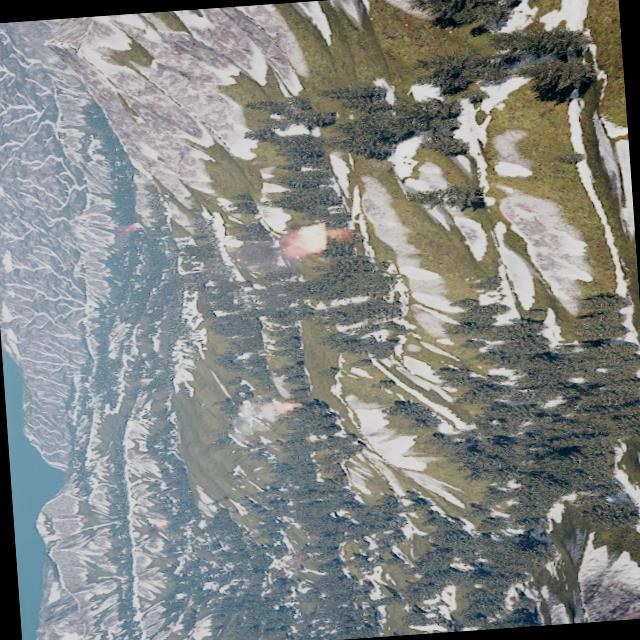fire: (293, 222, 329, 255), (278, 398, 302, 411), (154, 516, 168, 526), (126, 222, 142, 230), (140, 375, 152, 382)
smoke: (243, 238, 298, 274), (233, 399, 284, 432)
